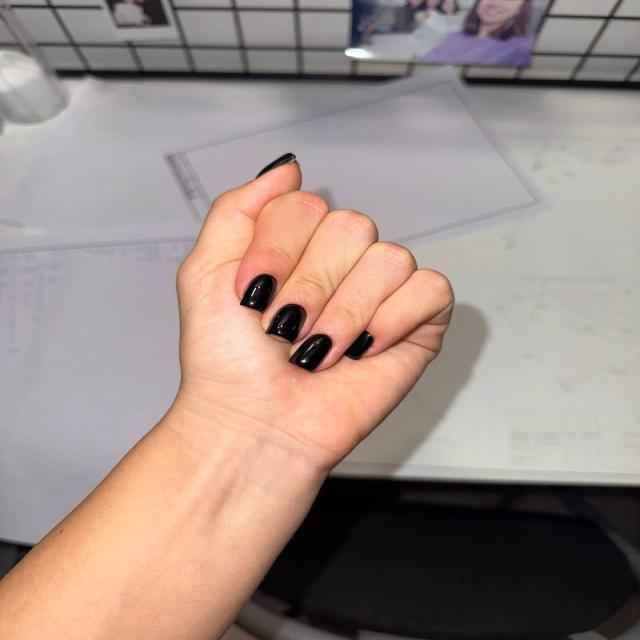a: (171, 160, 456, 400)
